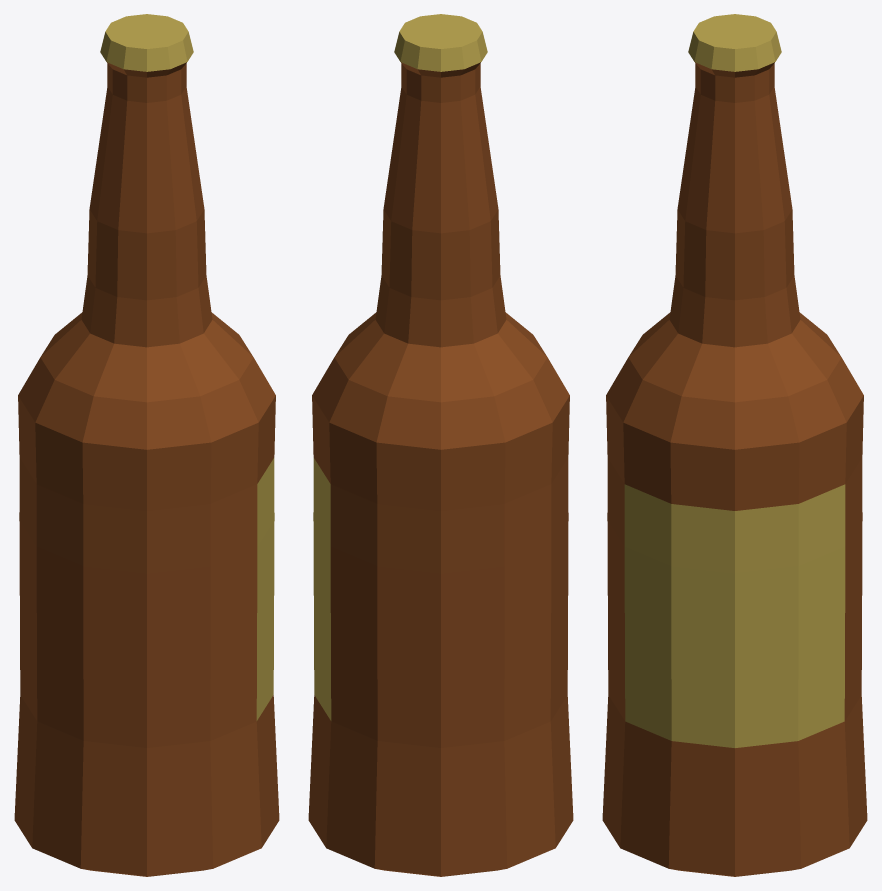
The model's file is cara.glb.
The picture shows the model from 3 angles, left to right: view 1: azimuth 30°, elevation 25°; view 2: azimuth 150°, elevation 25°; view 3: azimuth 270°, elevation 25°; orthographic projection.
Parts seen in each view (by area): view 1: Object_2, Object_3, Object_3.004; view 2: Object_2, Object_3, Object_3.004; view 3: Object_2, Object_3.004, Object_3.
Boxes of the visible parts, x1,y1,x2,y2 form: Object_2: (14, 62, 279, 876); Object_3: (100, 14, 193, 71); Object_3.004: (256, 458, 274, 720); Object_2: (308, 62, 573, 876); Object_3: (394, 14, 487, 71); Object_3.004: (313, 458, 331, 720); Object_2: (602, 62, 867, 876); Object_3.004: (624, 484, 845, 747); Object_3: (688, 14, 781, 71).
Size of the model in its own units: 1.84 by 6.12 by 1.84.
